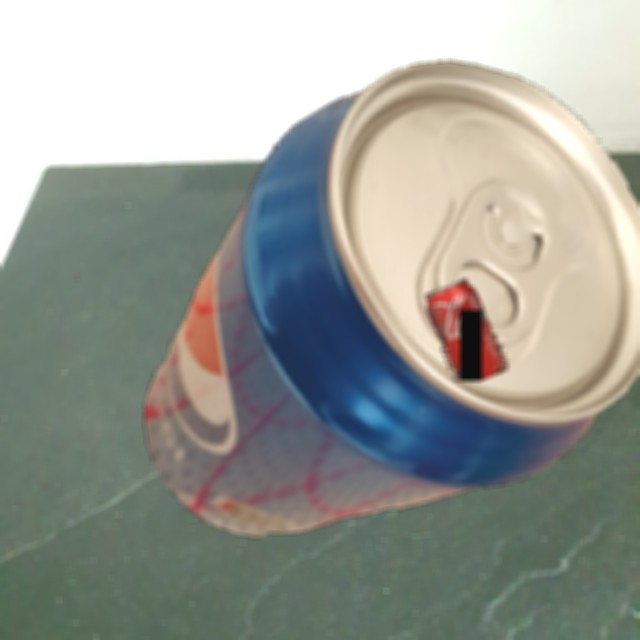coca cola: (423, 276, 508, 381)
pepsi: (50, 42, 640, 637)
